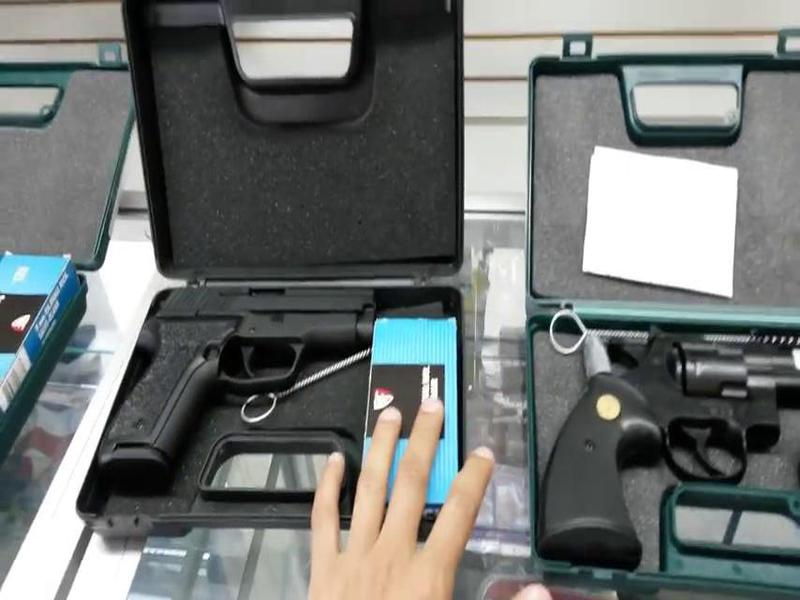Pistola: (85, 285, 402, 499)
Revolver: (532, 327, 800, 564)
